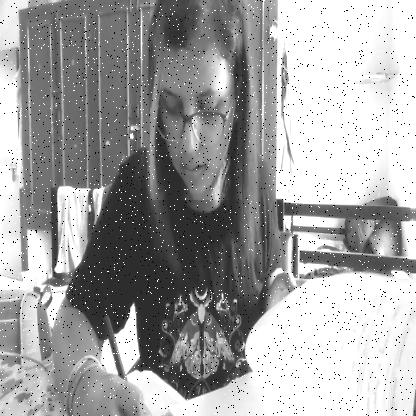Distracted: (150, 0, 242, 200)
